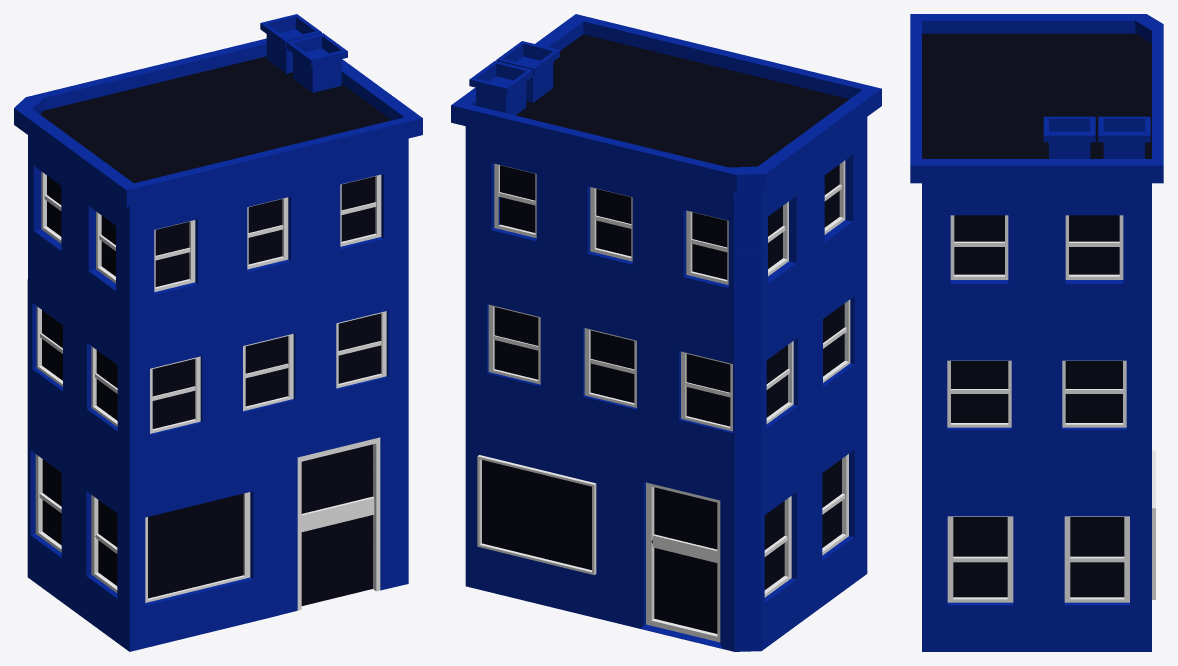
Rendered from Blue Building.fbx.
The picture shows the model from 3 angles, left to right: view 1: azimuth 30°, elevation 25°; view 2: azimuth 150°, elevation 25°; view 3: azimuth 270°, elevation 25°; orthographic projection. The views are drawn at different scales.
Parts seen in each view (by area): view 1: Plane.146; view 2: Plane.146; view 3: Plane.146.
Part boxes in pixels (x1,y1,x2,y2): Plane.146: [14, 14, 422, 651]; Plane.146: [451, 14, 881, 651]; Plane.146: [910, 14, 1163, 651].
Size of the model in its own units: 752 by 1191 by 531.
